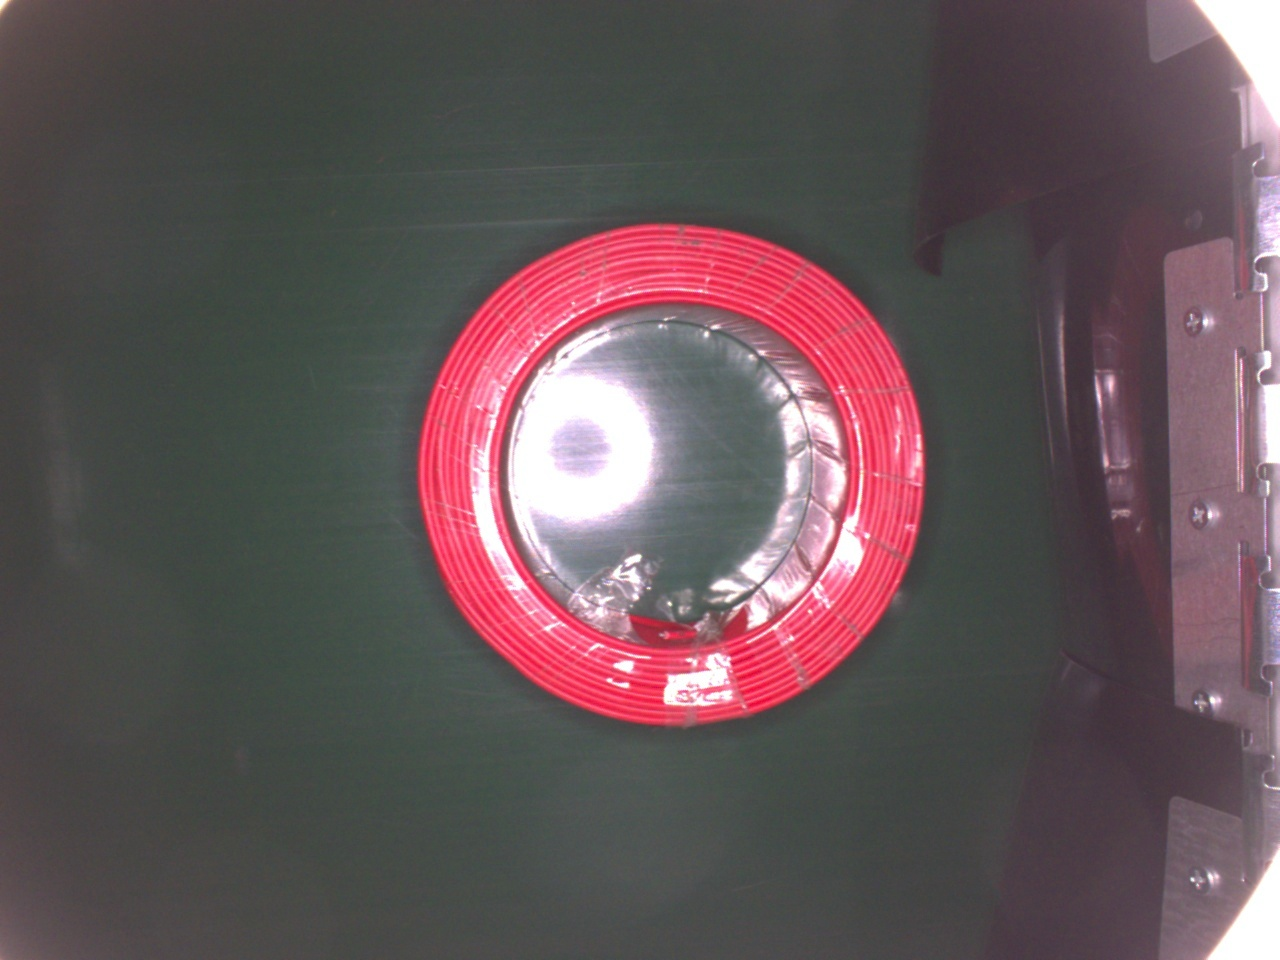red: (416, 217, 930, 728)
